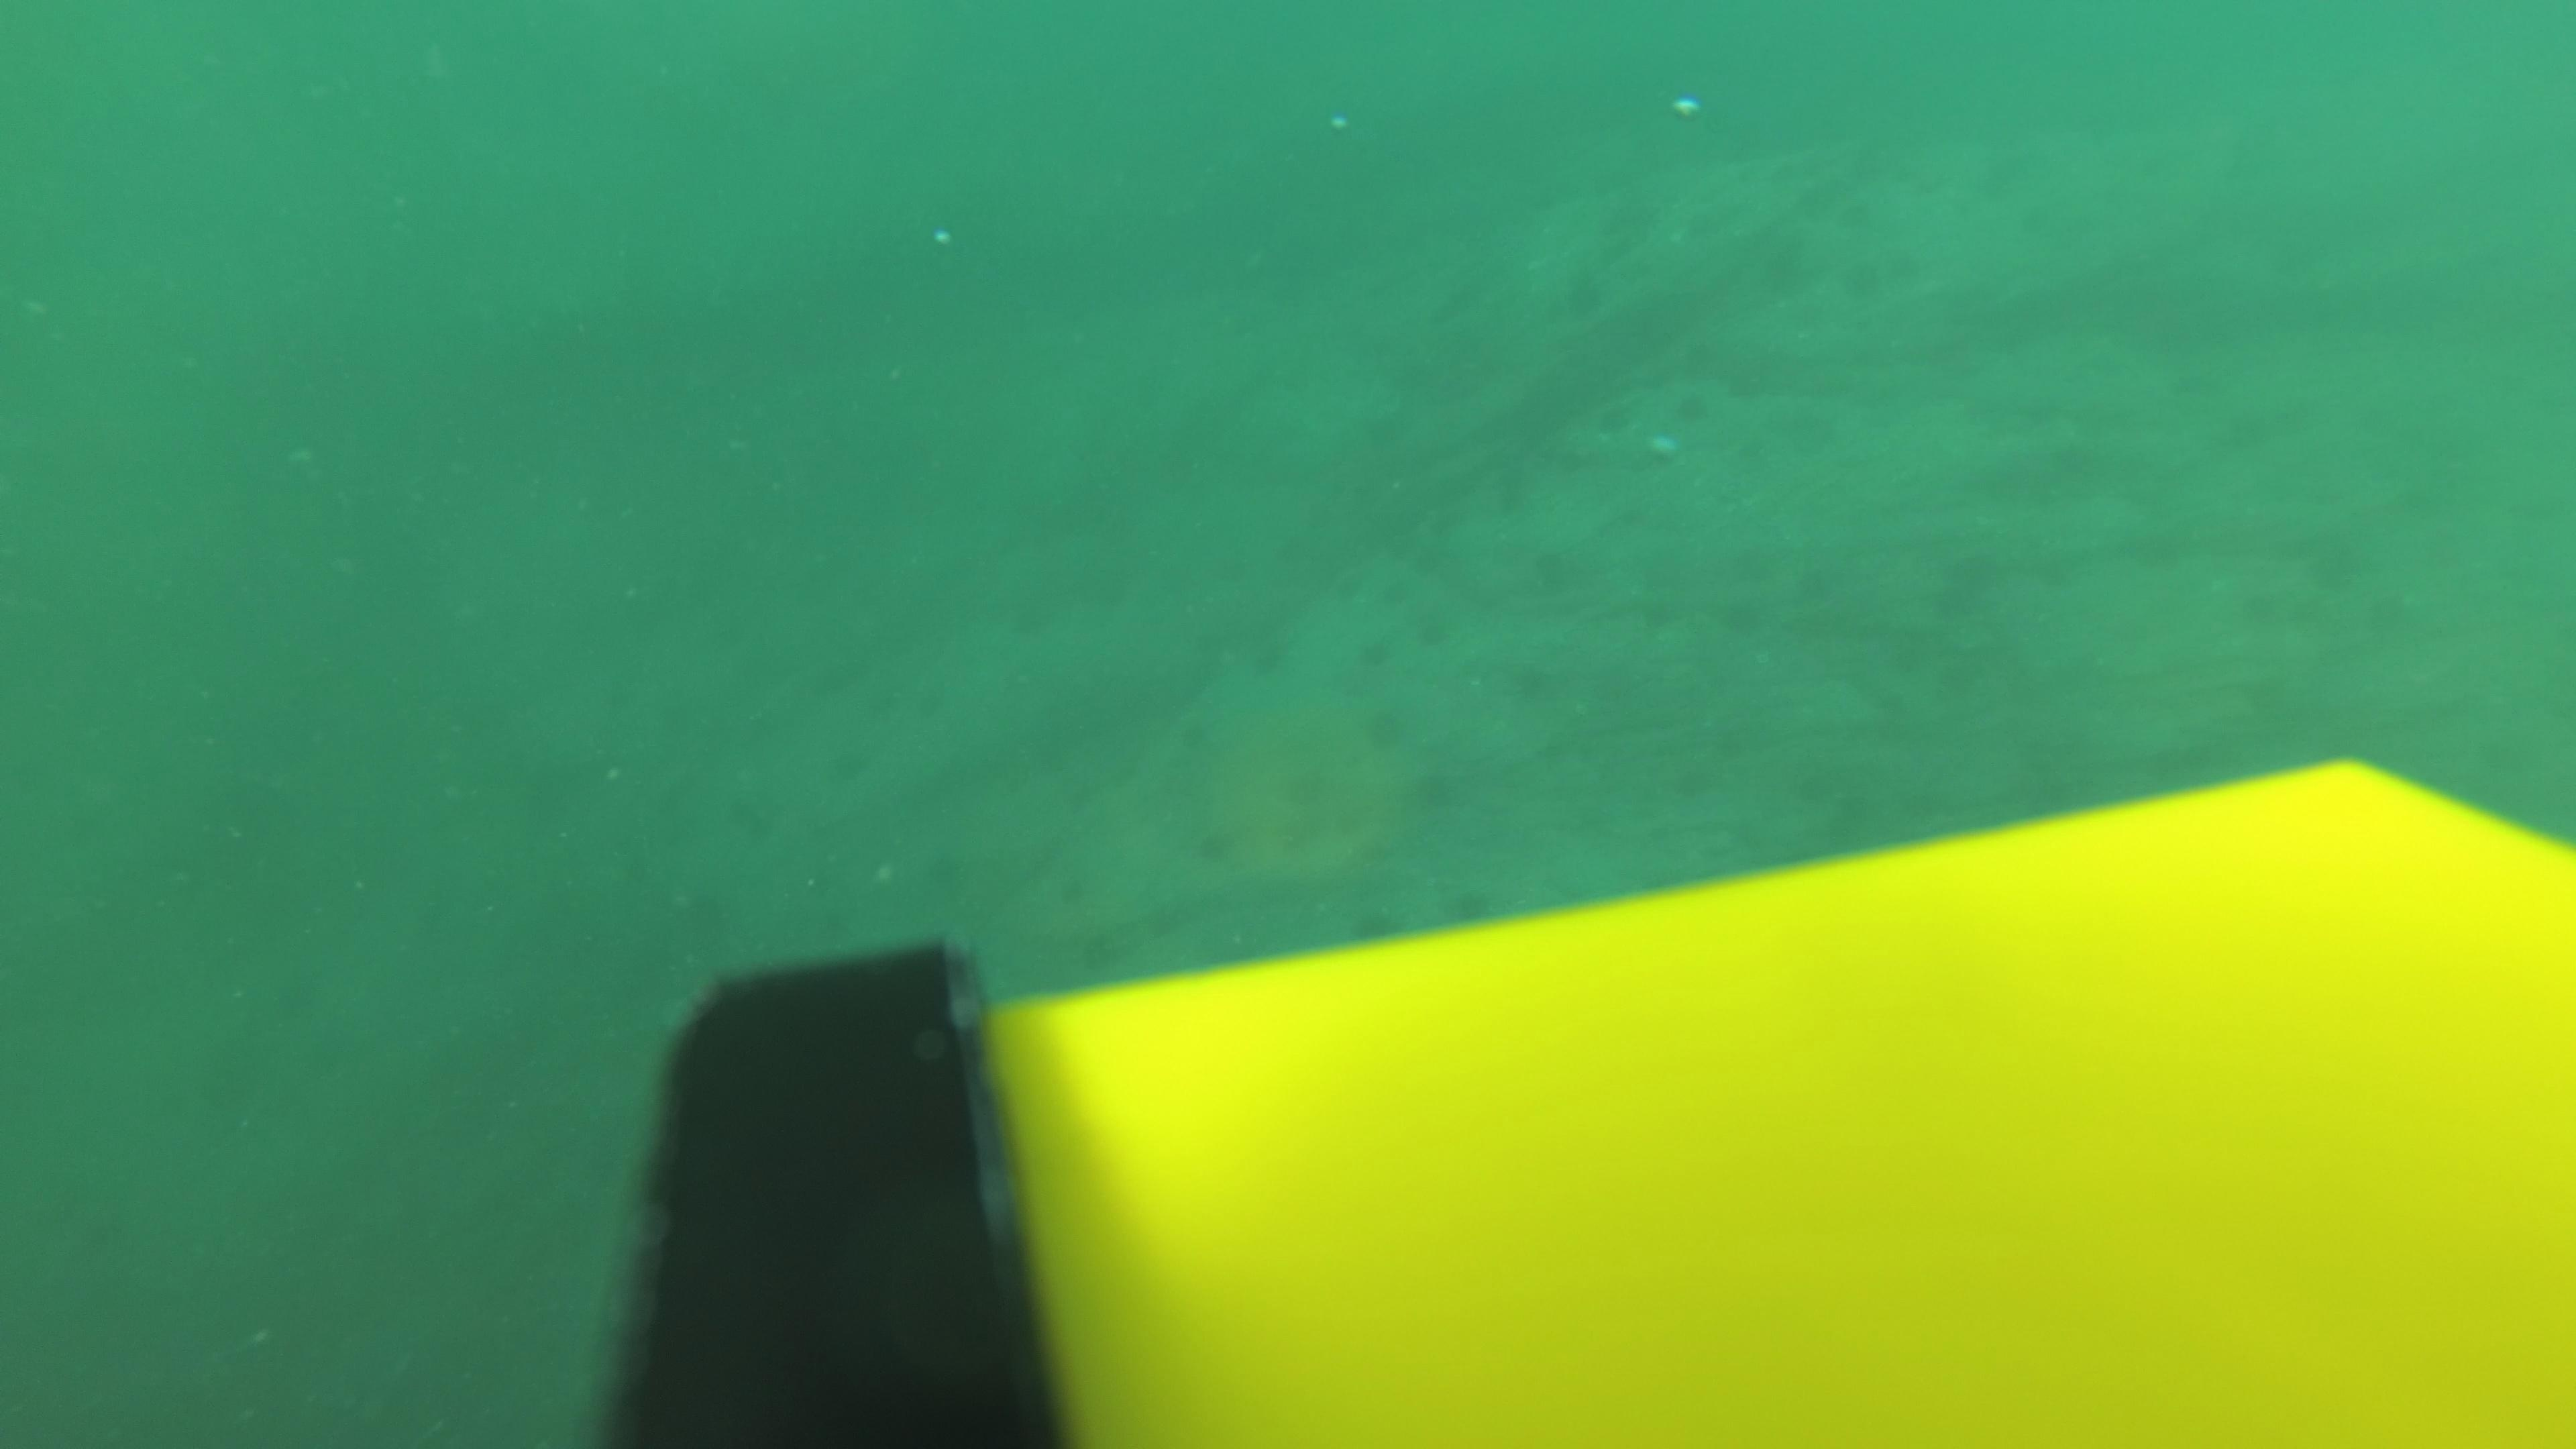echinus: (1361, 701, 1410, 755)
